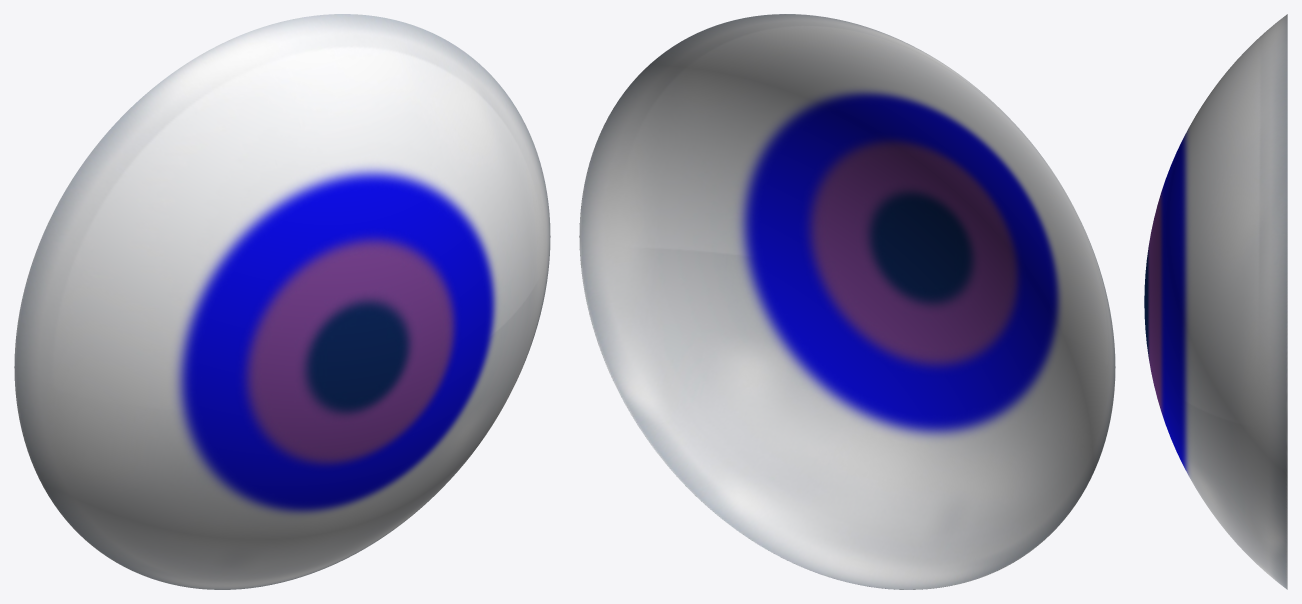
The model's file is lens_powermap.glb.
The picture shows the model from 3 angles, left to right: view 1: azimuth 30°, elevation 25°; view 2: azimuth 150°, elevation 25°; view 3: azimuth 270°, elevation 25°; orthographic projection. The views are drawn at different scales.
Parts seen in each view (by area): view 1: Sphere002; view 2: Sphere002; view 3: Sphere002.
Part boxes in pixels (left/top/right/bottom): Sphere002: left=14, top=14, right=550, bottom=589; Sphere002: left=579, top=14, right=1115, bottom=589; Sphere002: left=1144, top=14, right=1287, bottom=589.
Size of the model in its own units: 0.0999 by 0.0999 by 0.0248.
1 material, 1 textured.
